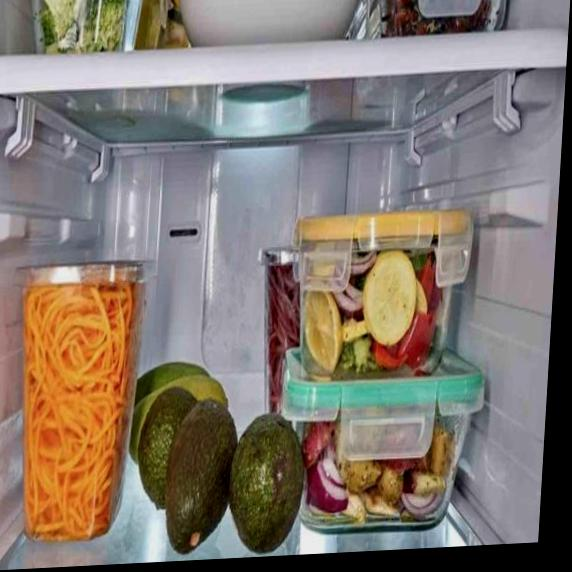broccoli: (37, 0, 127, 54)
lemon: (302, 290, 345, 369)
mango: (227, 410, 308, 553), (165, 398, 237, 554), (138, 389, 173, 507)
red onion: (308, 456, 350, 510), (400, 490, 443, 518)
